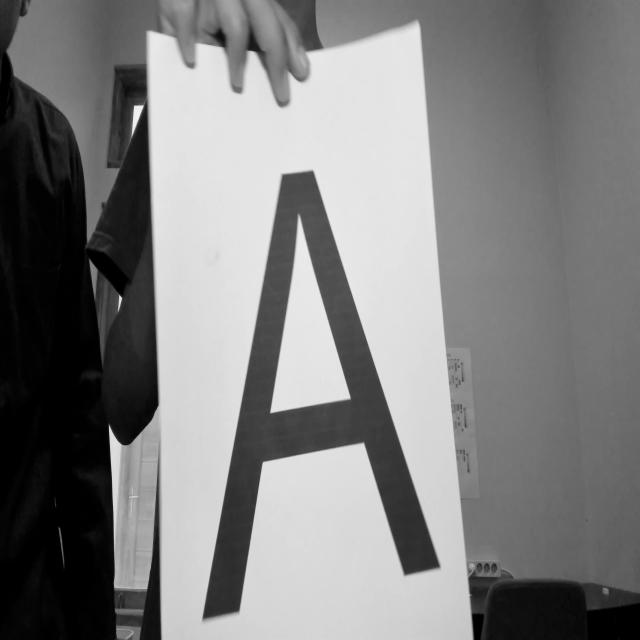a: (188, 142, 449, 638)
